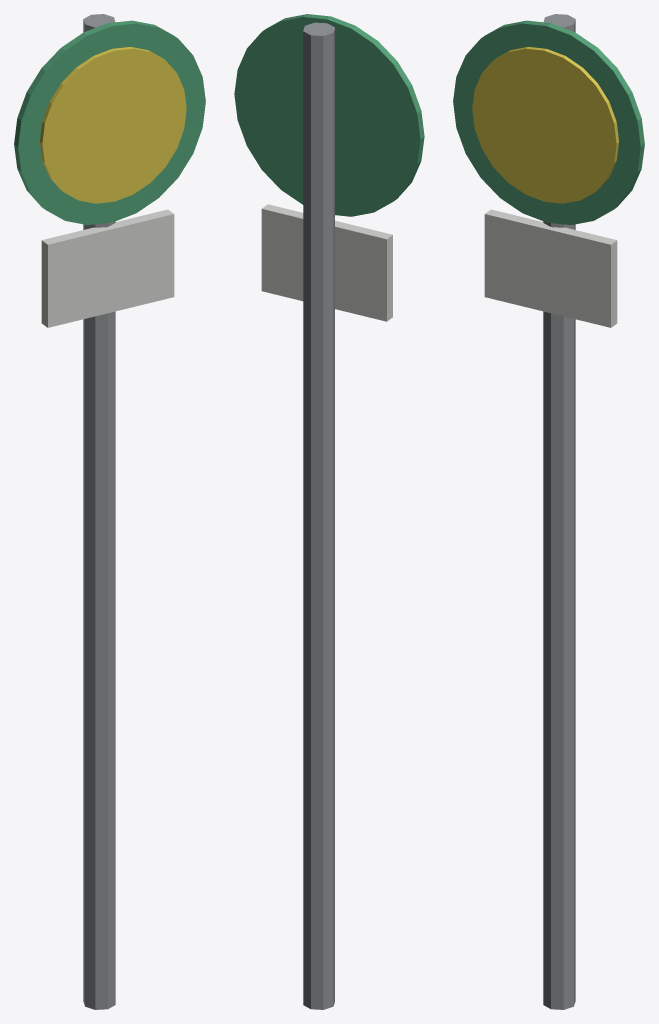
Rendered from sign-busstop.glb.
3 renders of one model, left to right at view 1: azimuth 30°, elevation 25°; view 2: azimuth 150°, elevation 25°; view 3: azimuth 330°, elevation 25°, orthographic.
Parts seen in each view (by area): view 1: sign-busstop; view 2: sign-busstop; view 3: sign-busstop.
Part boxes in pixels (left/top/right/bottom): sign-busstop: left=14, top=14, right=205, bottom=1009; sign-busstop: left=234, top=14, right=424, bottom=1009; sign-busstop: left=453, top=14, right=644, bottom=1009.
Size of the model in its own units: 0.52 by 2.61 by 0.1118.
